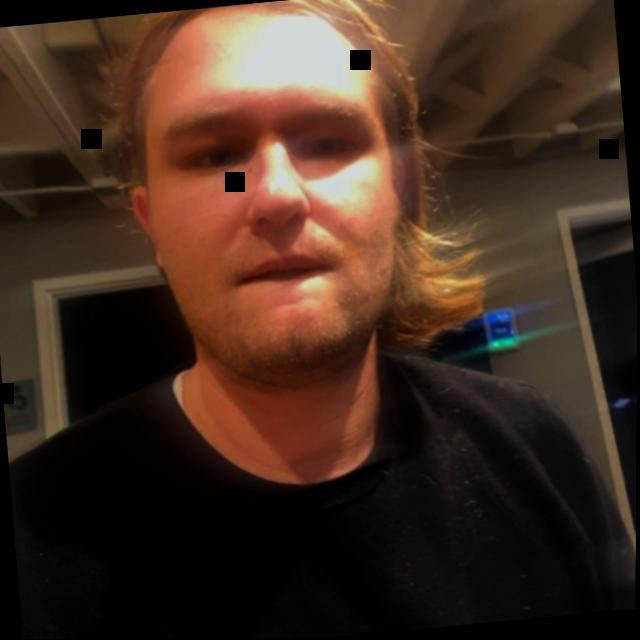NO-Mask: (104, 0, 499, 480)
